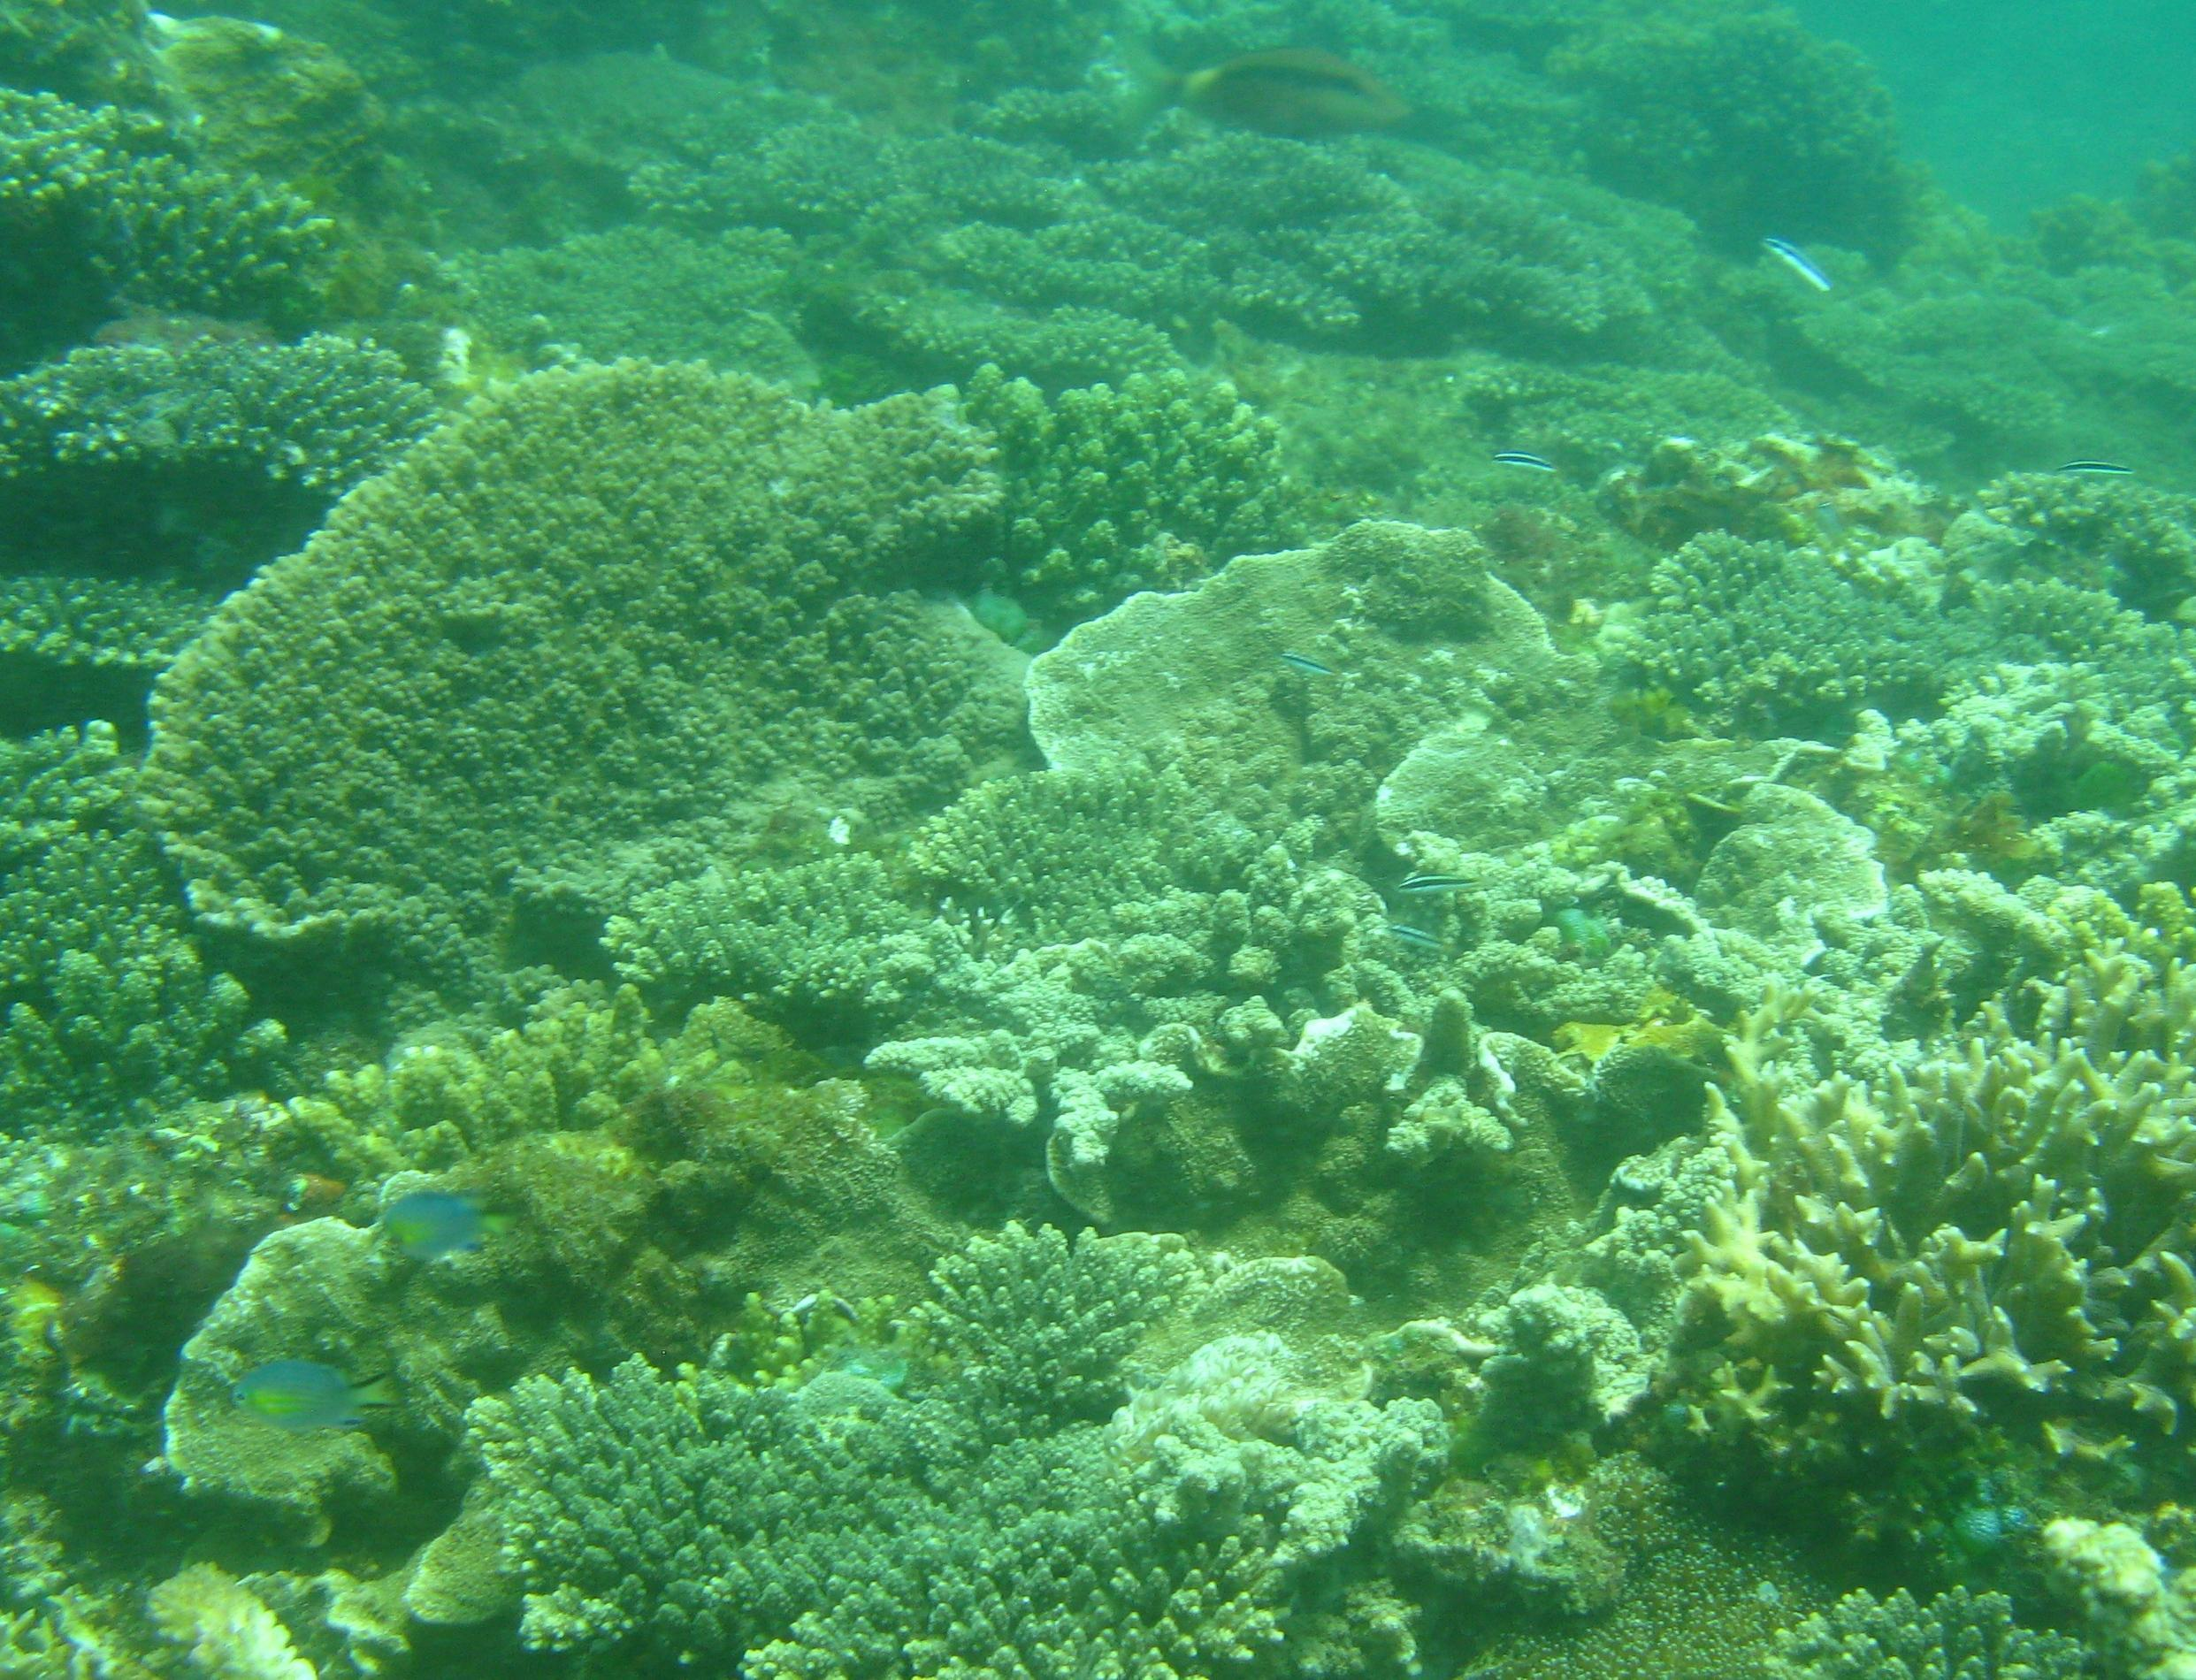Chromis nigura: (148, 1329, 425, 1496), (328, 1135, 560, 1318)
